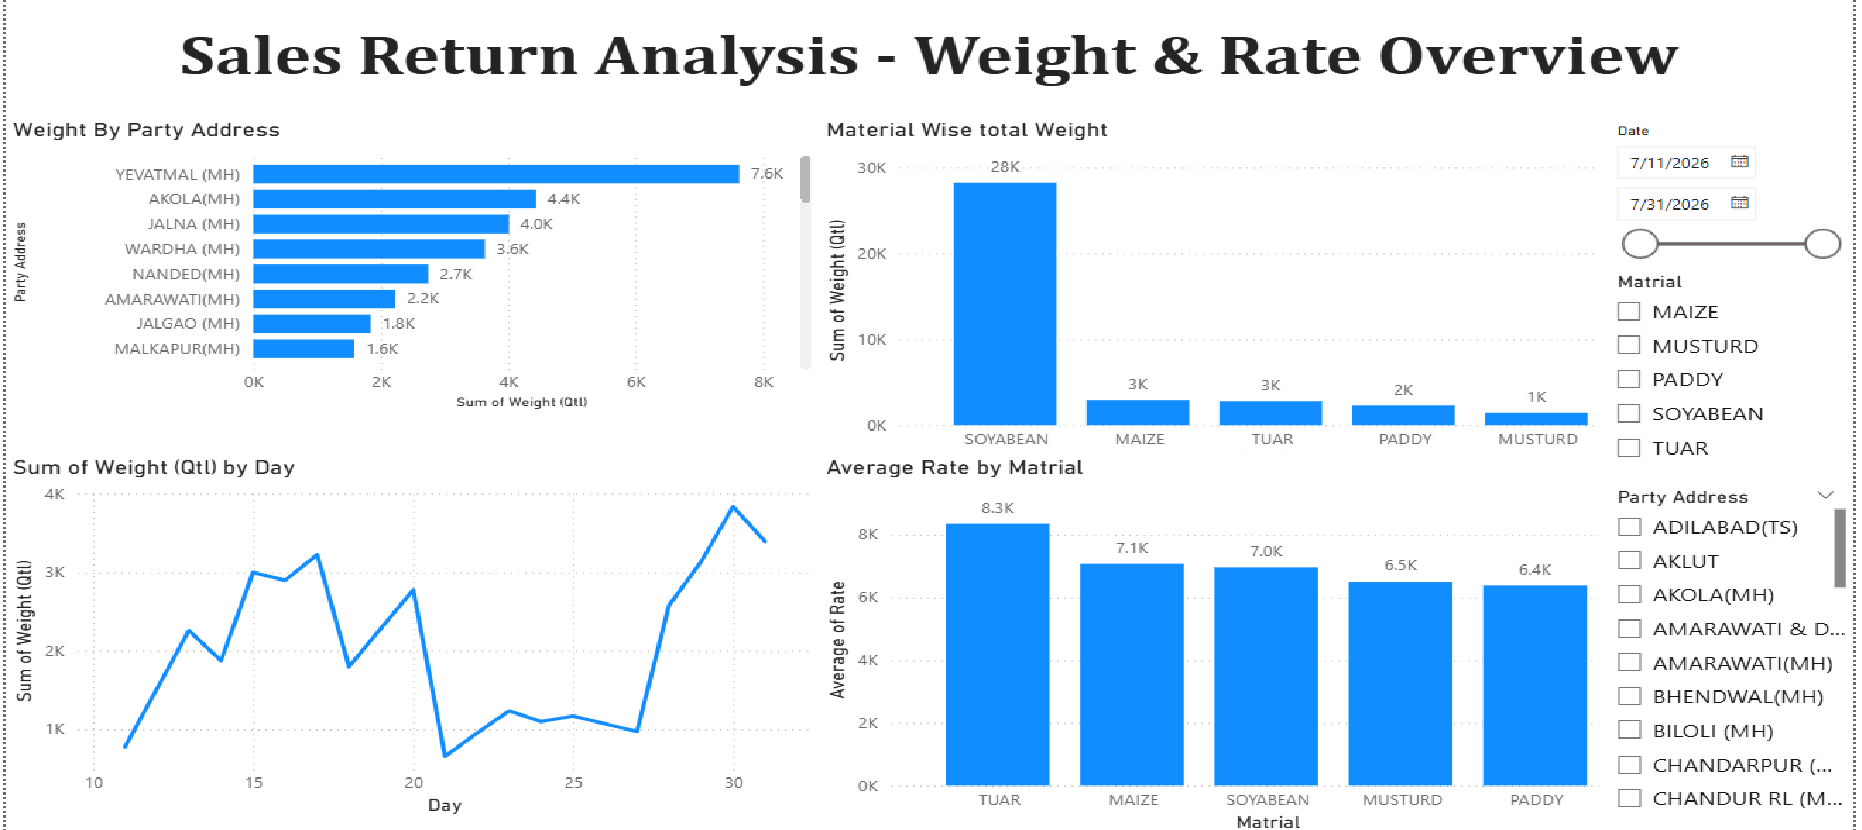

The dashboard page shown, as its layout file describes it:
{"tool":"powerbi","page":{"name":"Sales Return Dashboard - 2","canvas":[1280,720],"ordinal":1},"visuals":[{"type":"clusteredBarChart","title":"Weight By Party Address","fields":{"Category":["sales_data.Party Address"],"Y":["Sum(sales_data.Weight (Qtl))"]},"box":[0,105.2,563.7,254.3],"z":0},{"type":"clusteredColumnChart","title":"Material Wise total Weight","fields":{"Category":["sales_data.Matrial "],"Y":["Sum(sales_data.Weight (Qtl))"]},"box":[563.7,105.2,577.2,306.9],"z":1000},{"type":"lineChart","fields":{"Category":["sales_data.Date.Variation.Date Hierarchy.Day"],"Y":["Sum(sales_data.Weight (Qtl))"]},"box":[0,393.8,563.7,311.8],"z":2000},{"type":"clusteredColumnChart","title":"Average Rate by Matrial ","fields":{"Category":["sales_data.Matrial "],"Y":["Avg(sales_data.Rate)"]},"box":[563.7,393.8,577.2,326.5],"z":3000},{"type":"slicer","fields":{"Values":["sales_data.Date"]},"box":[1104.2,105.2,176.1,127.2],"z":4000},{"type":"slicer","fields":{"Values":["sales_data.Matrial "]},"box":[1104.2,232.3,176.1,179.8],"z":5000},{"type":"slicer","fields":{"Values":["sales_data.Party Address"]},"box":[1104.2,415.8,176.1,289.8],"z":6000},{"type":"textbox","box":[0,18.3,1280.3,86.8],"z":7000}]}

Visuals, with their boxes on the page's 1280x720 design canvas (x1, y1, x2, y2). These are canvas units, not pixel positions in the 1862x830 screenshot, which may show the page scaled, cropped or inside an application window:
"Weight By Party Address" clusteredBarChart: [x1=0, y1=105, x2=564, y2=360]
"Material Wise total Weight" clusteredColumnChart: [x1=564, y1=105, x2=1141, y2=412]
lineChart - sales_data.Date.Variation.Date Hierarchy.Day x Sum(sales_data.Weight (Qtl)): [x1=0, y1=394, x2=564, y2=706]
"Average Rate by Matrial " clusteredColumnChart: [x1=564, y1=394, x2=1141, y2=720]
slicer - sales_data.Date: [x1=1104, y1=105, x2=1280, y2=232]
slicer - sales_data.Matrial : [x1=1104, y1=232, x2=1280, y2=412]
slicer - sales_data.Party Address: [x1=1104, y1=416, x2=1280, y2=706]
textbox: [x1=0, y1=18, x2=1280, y2=105]
